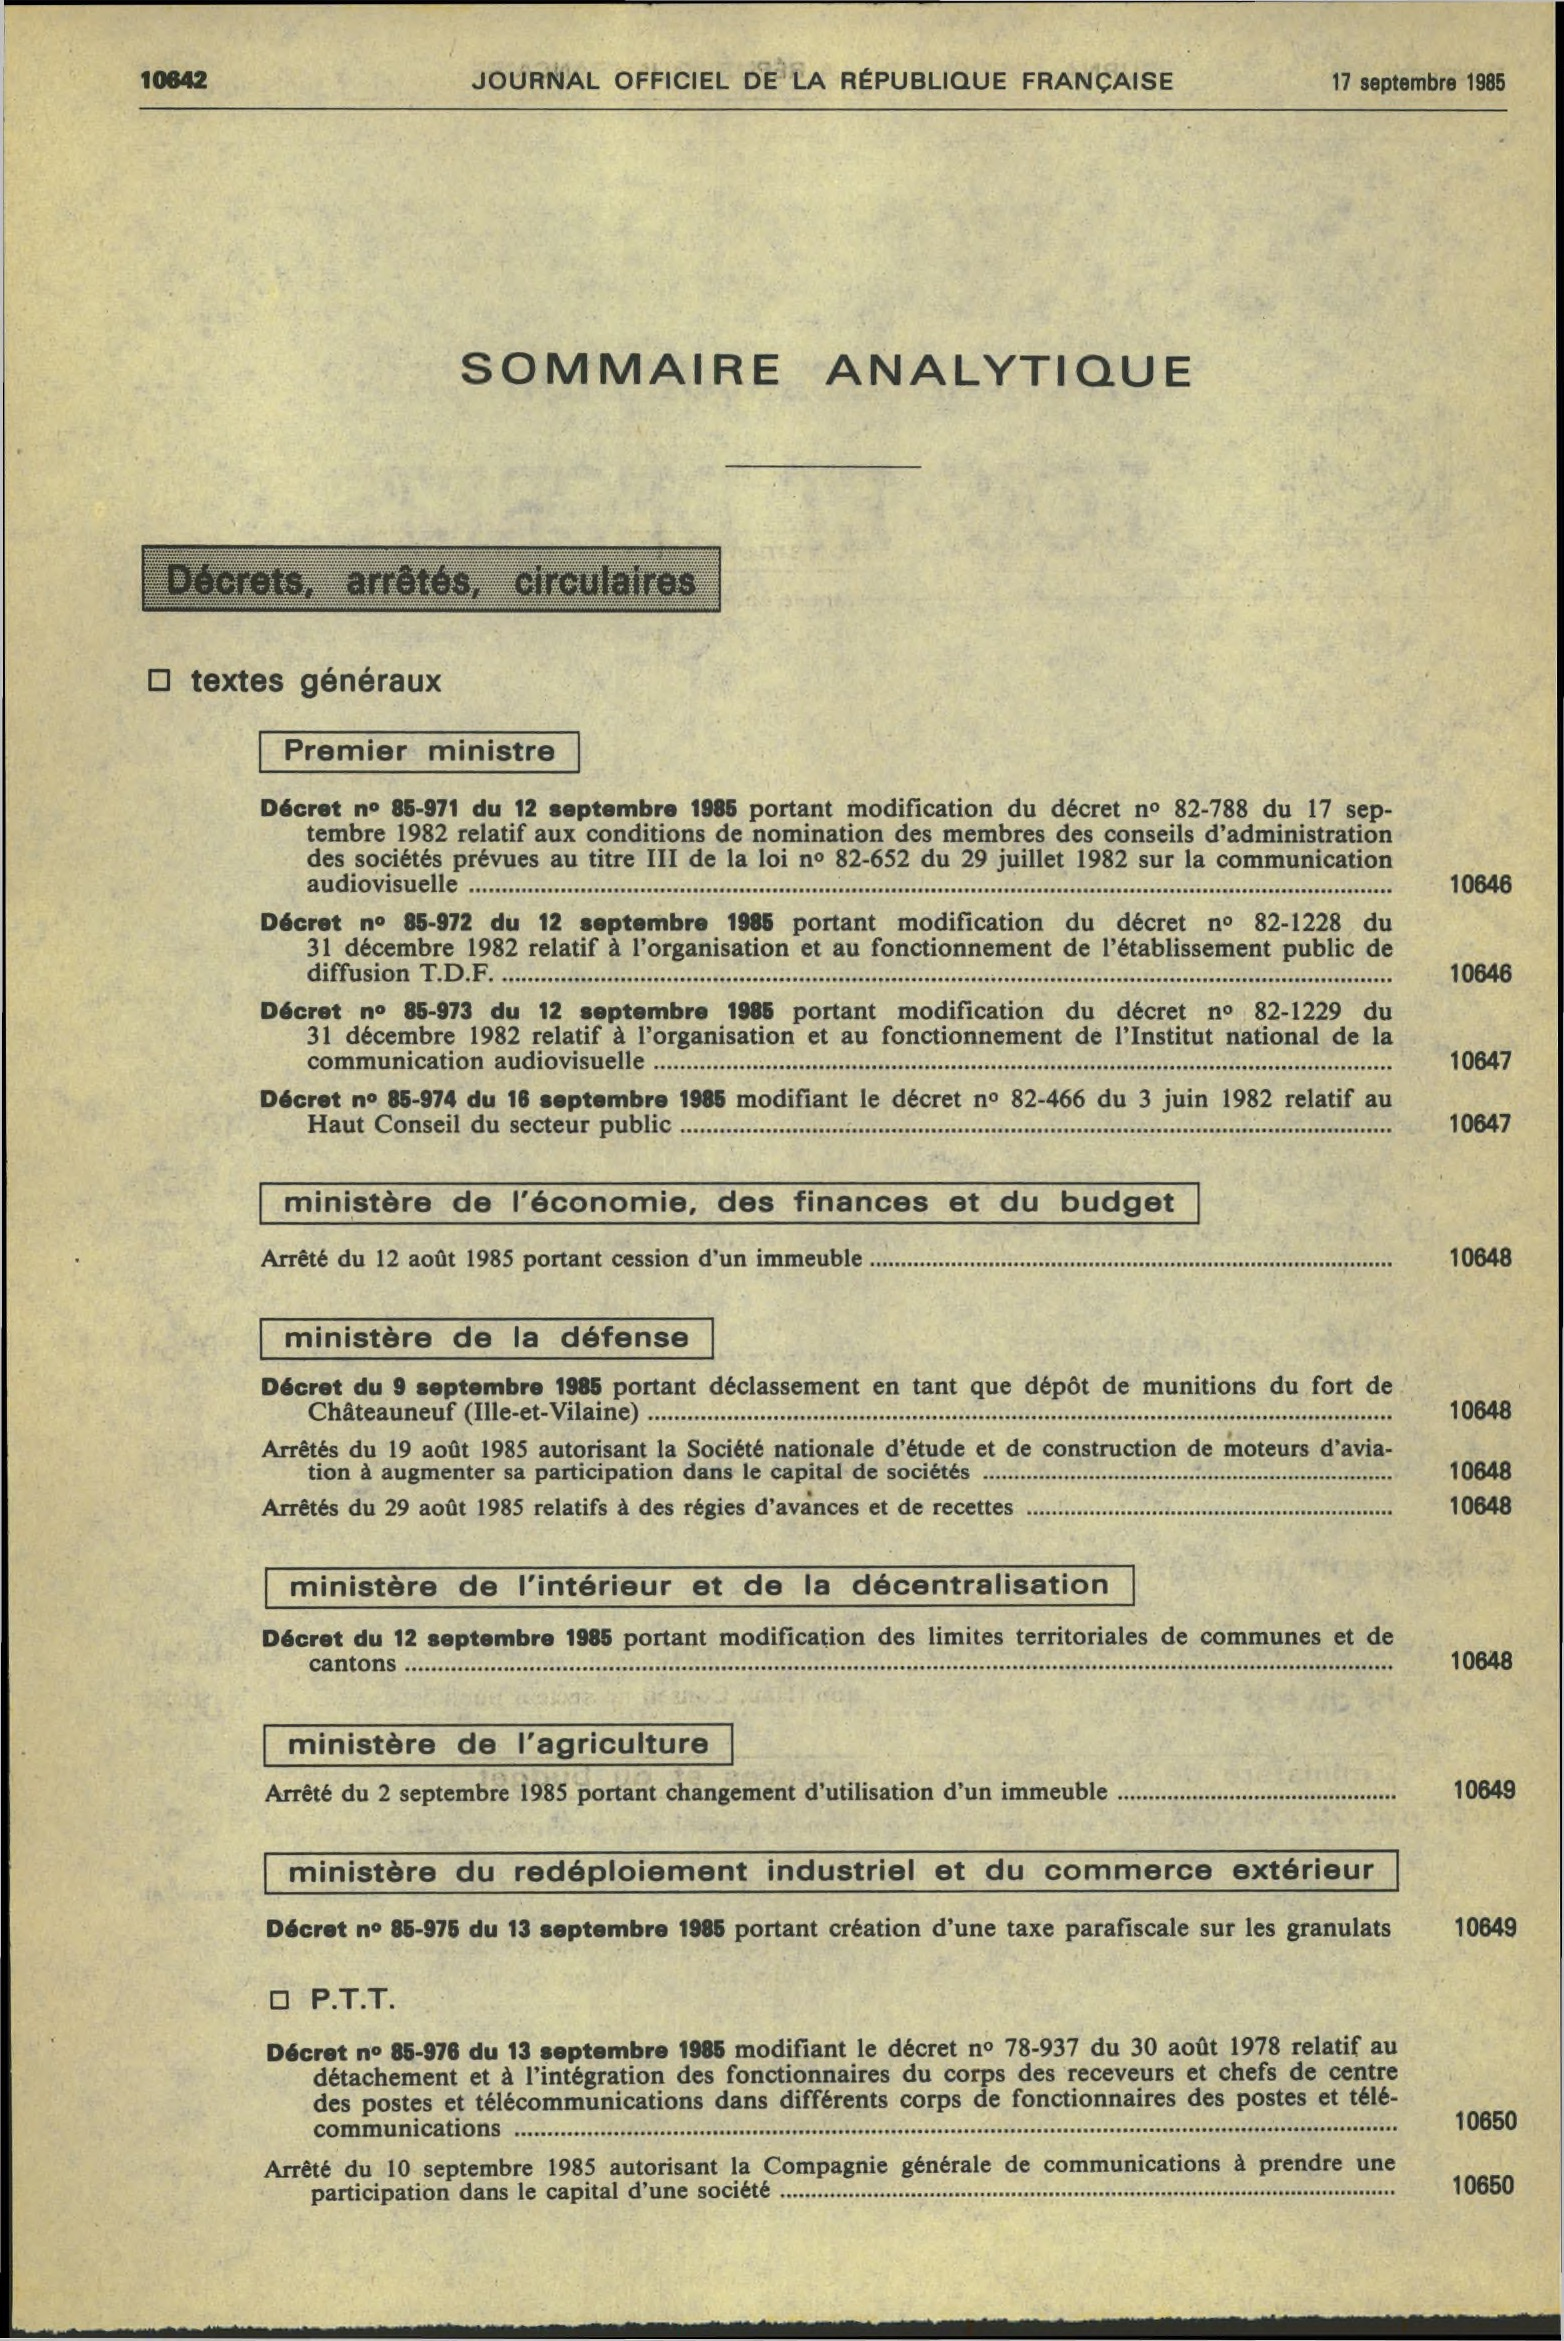MainZone-Date: (1320, 61, 1514, 104)
MainZone-Head: (437, 329, 1211, 417)
QuireMarksZone: (127, 447, 1541, 2257)
StampZone: (460, 51, 1187, 111)
TitlePageZone: (131, 60, 217, 102)
